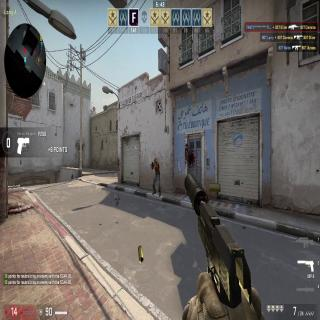CT-Body: (154, 157, 160, 196)
CT-Head: (154, 157, 156, 163)
